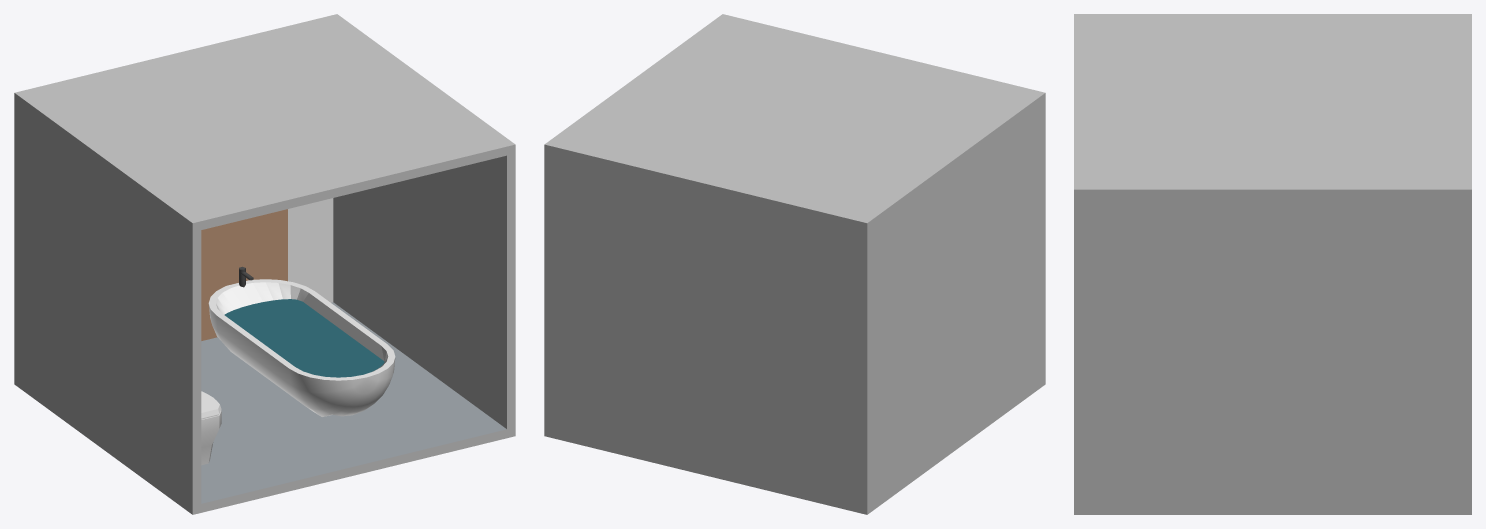
The model's file is bath.glb.
3 renders of one model, left to right at view 1: azimuth 30°, elevation 25°; view 2: azimuth 150°, elevation 25°; view 3: azimuth 270°, elevation 25°, orthographic. The views are drawn at different scales.
Parts seen in each view (by area): view 1: Box001; view 2: Box001; view 3: Box001.
Boxes of the visible parts, box(x1,y1,x2,y2) form: Box001: box(14, 14, 515, 514); Box001: box(544, 14, 1045, 514); Box001: box(1074, 14, 1471, 514).
Size of the model in its own units: 52.34 by 45.18 by 50.07.
